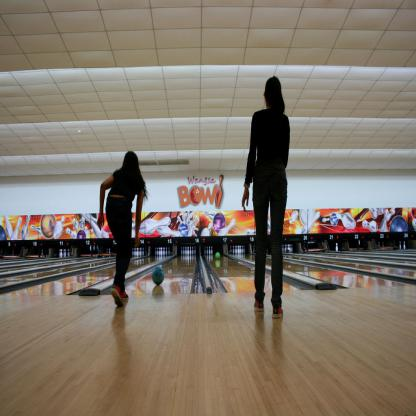Ball: (152, 266, 164, 287), (216, 253, 221, 261)
